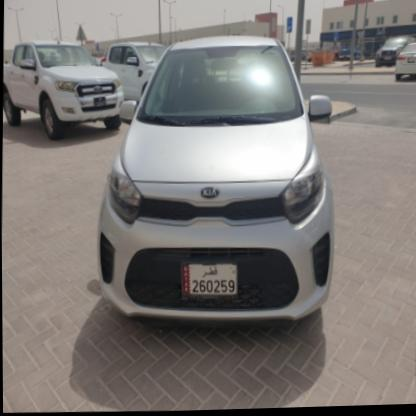np: (178, 261, 238, 298)
